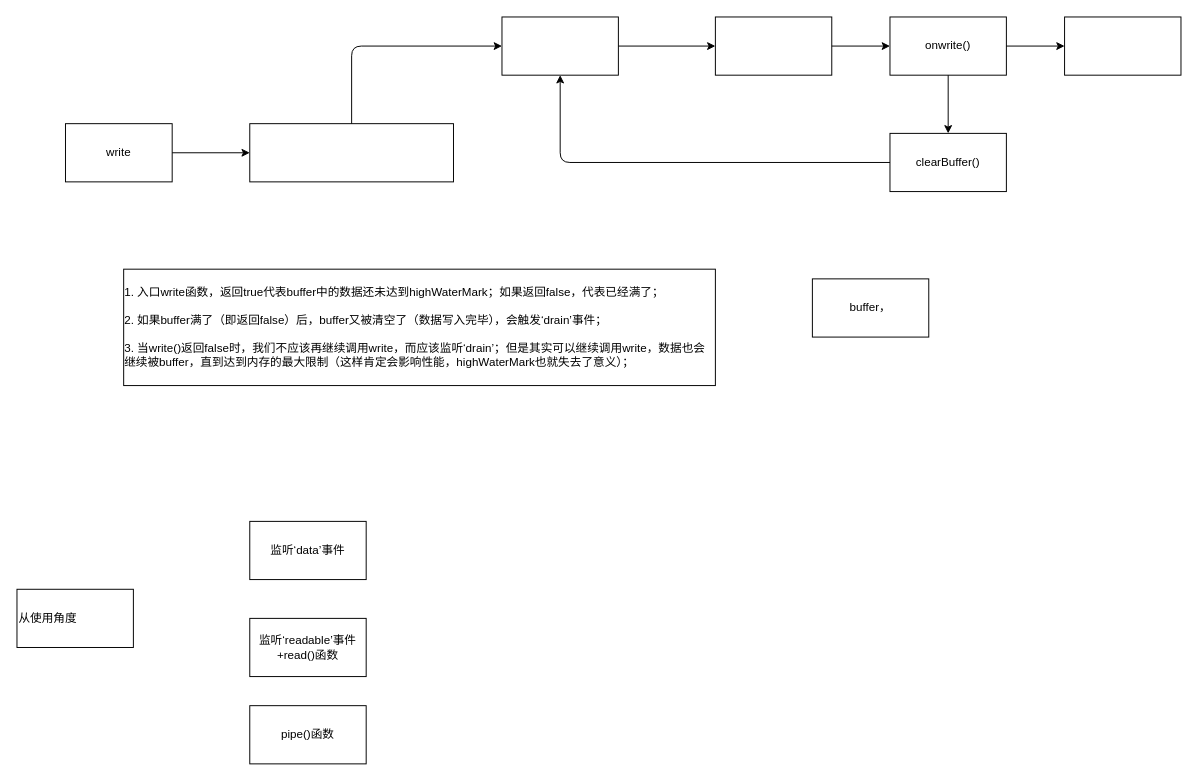
Image size: 1198x781. Some labels were removed from this diagram. Here are the shapes that lost their labels. From the top down, the box of each, then its label:
(501, 16, 618, 75): doWrite
(714, 16, 832, 75): _write()
(1064, 16, 1181, 75): afterWrite()
(249, 123, 453, 182): writeOrBuffer()
